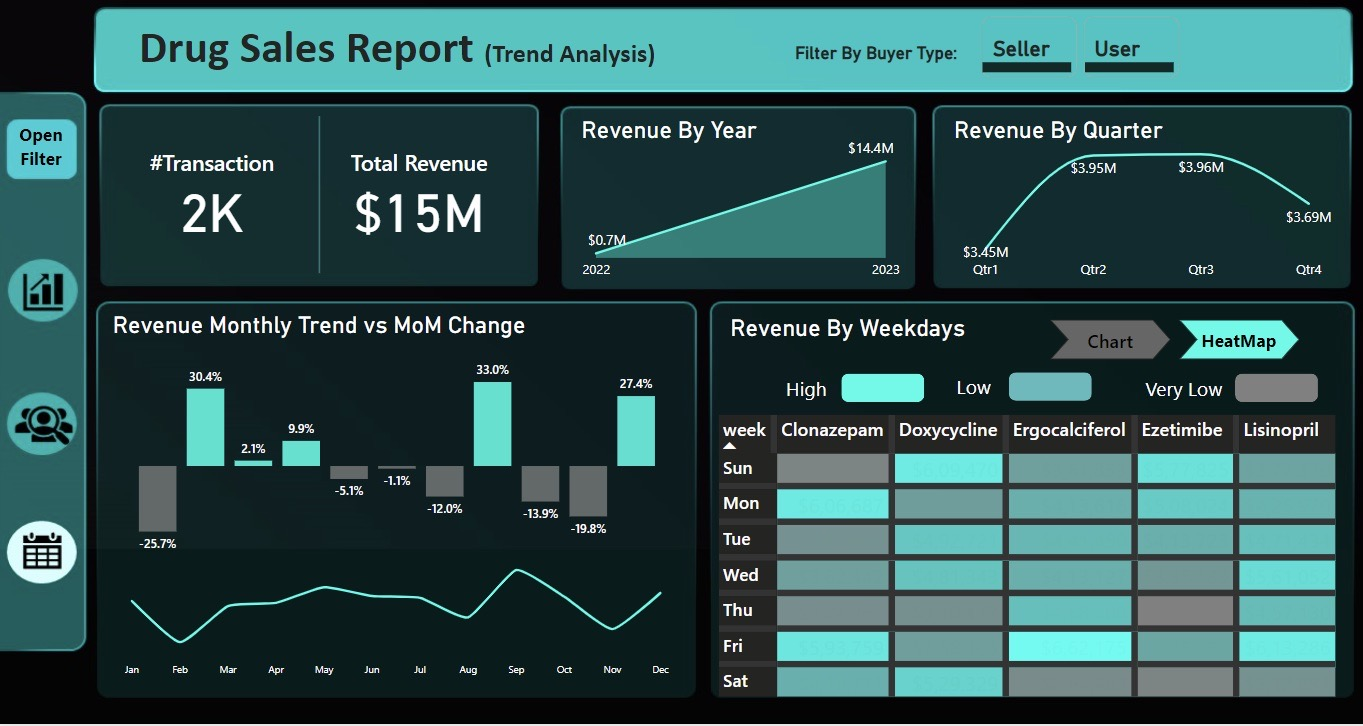

Layout of this report page (visuals, bound fields, positions):
{"tool":"powerbi","page":{"name":"Trend Analysis","canvas":[1700,900],"ordinal":2},"visuals":[{"type":"actionButton","title":"Open","box":[10.6,142.6,92.1,83.3],"z":0,"group":"g3"},{"type":"cardVisual","fields":{"Data":["Calculated Measures.#Transaction","Calculated Measures.Total Revenue"]},"box":[139.3,143.7,515.9,204.6],"z":0},{"type":"textbox","title":"Weekday Revenue","box":[903.5,388,430.5,49.6],"z":0,"group":"g1"},{"type":"shape","box":[1045.3,467.7,102.8,35.4],"z":0,"group":"g2"},{"type":"lineChart","fields":{"Y":["Calculated Measures.Total Revenue"],"Category":["Date Master.Year"]},"box":[719.3,143.5,403.9,216.1],"z":1000},{"type":"shape","box":[1252.6,465.9,102.8,35.4],"z":1000,"group":"g2"},{"type":"lineChart","fields":{"Category":["Date Master.Qtr"],"Y":["Calculated Measures.Total Revenue"]},"box":[1165.7,171.9,515.6,187.8],"z":2000},{"type":"shape","box":[1530.7,467.7,102.8,35.4],"z":2000,"group":"g2"},{"type":"textbox","box":[958.5,464.2,86.8,49.6],"z":3000,"group":"g2"},{"type":"lineChart","fields":{"Y":["Calculated Measures.Total Revenue"],"Category":["Date Master.Month"]},"box":[140,682.1,710.4,168.3],"z":3000},{"type":"clusteredColumnChart","fields":{"Category":["Date Master.Month"],"Y":["Calculated Measures.MoM Change"]},"box":[173.6,437.6,648.4,256.9],"z":4000},{"type":"textbox","box":[1165.8,462.4,86.8,49.6],"z":4000,"group":"g2"},{"type":"textbox","box":[1406.7,464.2,124,49.6],"z":5000,"group":"g2"},{"type":"pivotTable","fields":{"Rows":["Date Master.week"],"Values":["Calculated Measures.Total Revenue"],"Columns":["DrugLookup.DrugName"]},"box":[889.4,512,777.8,365],"z":5000},{"type":"group","id":"g1","title":"Weekday Title","box":[903.5,388,430.5,49.6],"z":7000},{"type":"group","id":"g2","title":"Weekday Legend","box":[958.5,462.4,675,51.4],"z":8000},{"type":"bookmarkNavigator","box":[1303.9,400.4,308.3,49.6],"z":9000},{"type":"textbox","box":[140,384.4,595.3,56.7],"z":10000},{"type":"textbox","box":[173.6,23,753,97.4],"z":11000},{"type":"textbox","box":[1179.9,143.5,384.4,47.8],"z":12000},{"type":"textbox","box":[719.3,143.5,249.8,56.7],"z":13000},{"type":"group","id":"g3","title":"Trend Filter","box":[10.6,141.7,92.1,85],"z":14000},{"type":"actionButton","box":[0,639.6,111.6,92.1],"z":16000},{"type":"actionButton","box":[0,478.3,111.6,92.1],"z":17000},{"type":"actionButton","box":[0,324.2,111.6,92.1],"z":18000},{"type":"advancedSlicerVisual","fields":{"Values":["FactTable.BuyerType"]},"box":[1213.6,19.5,255.1,86.8],"z":19000},{"type":"textbox","box":[983.3,53.1,237.4,40.7],"z":20000},{"type":"shape","box":[1346.5,81.5,109.8,12.4],"z":21000},{"type":"shape","box":[1220.7,81.5,109.8,12.4],"z":22000}]}

Visuals, with their boxes in screenshot pixels (x1, y1, x2, y2), scaled from the page's 1700x900 canvas onto the 1363x726 screenshot:
"Open" actionButton: Rect(8, 115, 82, 182)
cardVisual - Calculated Measures.#Transaction x Calculated Measures.Total Revenue: Rect(112, 116, 525, 281)
"Weekday Revenue" textbox: Rect(724, 313, 1070, 353)
shape: Rect(838, 377, 921, 406)
lineChart - Calculated Measures.Total Revenue x Date Master.Year: Rect(577, 116, 901, 290)
shape: Rect(1004, 376, 1087, 404)
lineChart - Date Master.Qtr x Calculated Measures.Total Revenue: Rect(935, 139, 1348, 290)
shape: Rect(1227, 377, 1310, 406)
textbox: Rect(768, 374, 838, 414)
lineChart - Calculated Measures.Total Revenue x Date Master.Month: Rect(112, 550, 682, 686)
clusteredColumnChart - Date Master.Month x Calculated Measures.MoM Change: Rect(139, 353, 659, 560)
textbox: Rect(935, 373, 1004, 413)
textbox: Rect(1128, 374, 1227, 414)
pivotTable - Date Master.week x Calculated Measures.Total Revenue: Rect(713, 413, 1337, 707)
"Weekday Title" group: Rect(724, 313, 1070, 353)
"Weekday Legend" group: Rect(768, 373, 1310, 414)
bookmarkNavigator: Rect(1045, 323, 1293, 363)
textbox: Rect(112, 310, 590, 356)
textbox: Rect(139, 19, 743, 97)
textbox: Rect(946, 116, 1254, 154)
textbox: Rect(577, 116, 777, 161)
"Trend Filter" group: Rect(8, 114, 82, 183)
actionButton: Rect(0, 516, 89, 590)
actionButton: Rect(0, 386, 89, 460)
actionButton: Rect(0, 262, 89, 336)
advancedSlicerVisual - FactTable.BuyerType: Rect(973, 16, 1178, 86)
textbox: Rect(788, 43, 979, 76)
shape: Rect(1080, 66, 1168, 76)
shape: Rect(979, 66, 1067, 76)
